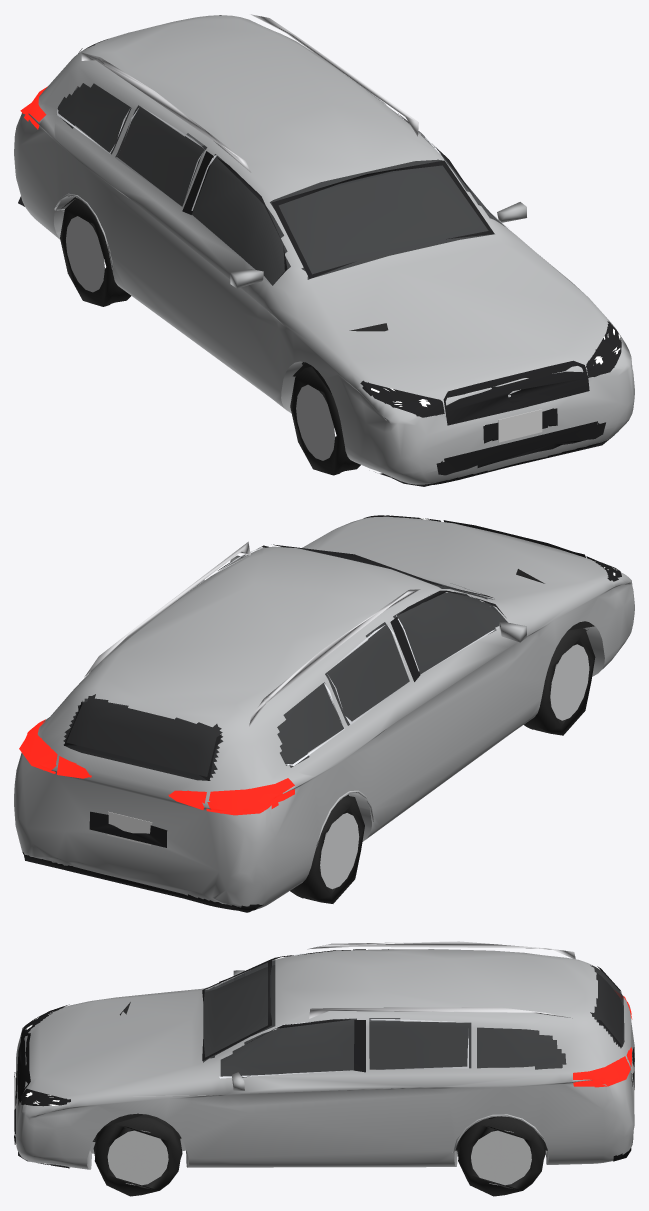
Rendered from wagon-lod2.glb.
The picture shows the model from 3 angles, top to bottom: view 1: azimuth 30°, elevation 25°; view 2: azimuth 150°, elevation 25°; view 3: azimuth 270°, elevation 25°; orthographic projection. The views are drawn at different scales.
Visible parts, largest first — view 1: Body, Body_Lining, Body_Trim, Wheel_FR_Tyre, Wheel_RR_Tyre, Wheel_FR_Face, Wheel_RR_Face, RoofRail_R, PlateFront, RoofRail_L; view 2: Body, Body_Lining, Body_Trim, Wheel_FR_Tyre, Wheel_RR_Tyre, Wheel_FR_Face, Wheel_RR_Face, RoofRail_R, RoofRail_L, PlateRear; view 3: Body, Body_Lining, Body_Trim, Wheel_FL_Tyre, Wheel_RL_Tyre, Wheel_FL_Face, Wheel_RL_Face, RoofRail_R, RoofRail_L.
Boxes of the visible parts, <box> form: Body: <box>14,15,634,484</box>; Body_Lining: <box>58,83,490,284</box>; Body_Trim: <box>18,15,621,486</box>; Wheel_FR_Tyre: <box>290,366,360,475</box>; Wheel_RR_Tyre: <box>60,199,130,306</box>; Wheel_FR_Face: <box>296,384,334,460</box>; Wheel_RR_Face: <box>66,216,104,292</box>; RoofRail_R: <box>81,52,251,172</box>; PlateFront: <box>498,409,542,442</box>; RoofRail_L: <box>250,14,418,136</box>; Body: <box>14,516,634,911</box>; Body_Lining: <box>68,583,506,779</box>; Body_Trim: <box>19,515,621,912</box>; Wheel_FR_Tyre: <box>524,628,595,735</box>; Wheel_RR_Tyre: <box>290,795,364,903</box>; Wheel_FR_Face: <box>550,644,589,720</box>; Wheel_RR_Face: <box>320,813,359,889</box>; RoofRail_R: <box>249,589,420,726</box>; RoofRail_L: <box>84,541,250,677</box>; PlateRear: <box>107,811,152,845</box>; Body: <box>16,949,634,1169</box>; Body_Lining: <box>203,965,622,1077</box>; Body_Trim: <box>14,949,634,1168</box>; Wheel_FL_Tyre: <box>93,1114,182,1196</box>; Wheel_RL_Tyre: <box>457,1116,545,1196</box>; Wheel_FL_Face: <box>107,1130,168,1185</box>; Wheel_RL_Face: <box>471,1130,531,1185</box>; RoofRail_R: <box>307,941,575,959</box>; RoofRail_L: <box>309,1007,572,1018</box>.
Size of the model in its own units: 2.03 by 1.48 by 4.77.
